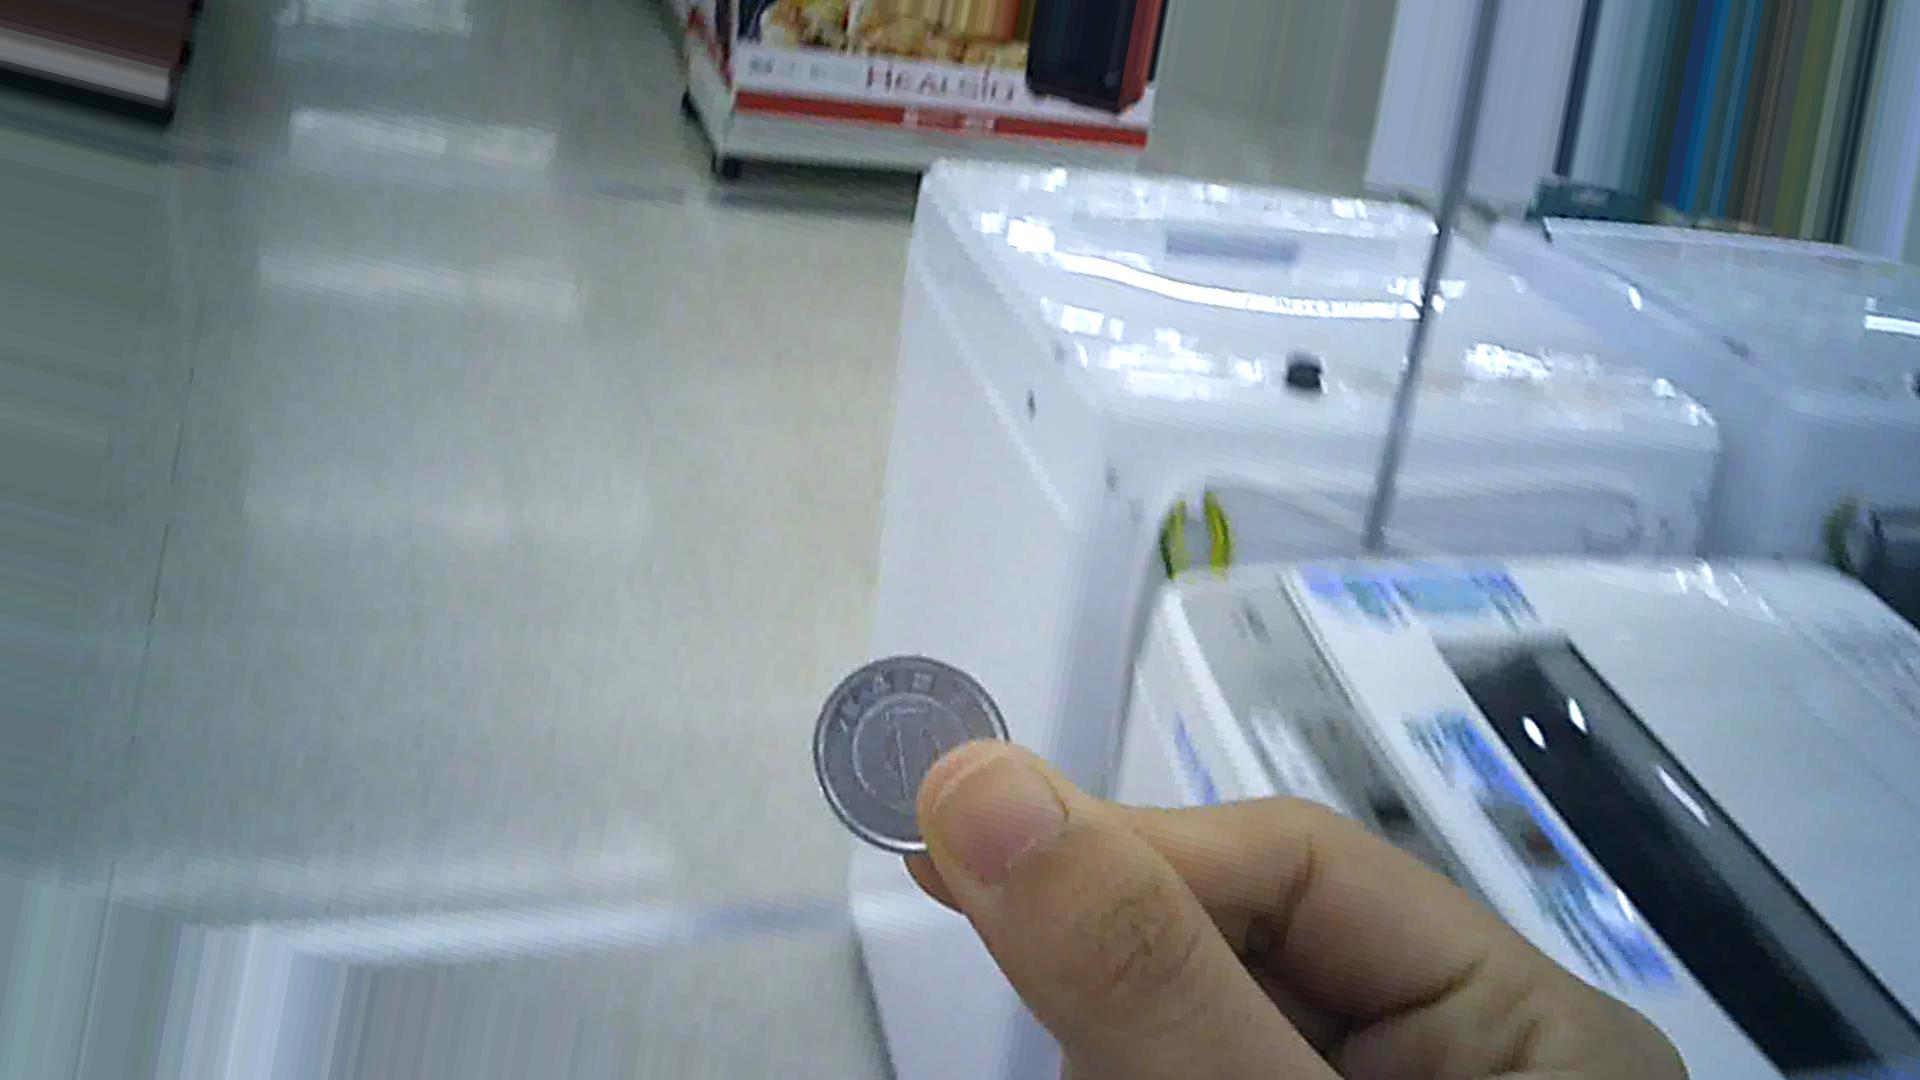1 Yen: (810, 659, 1042, 866)
